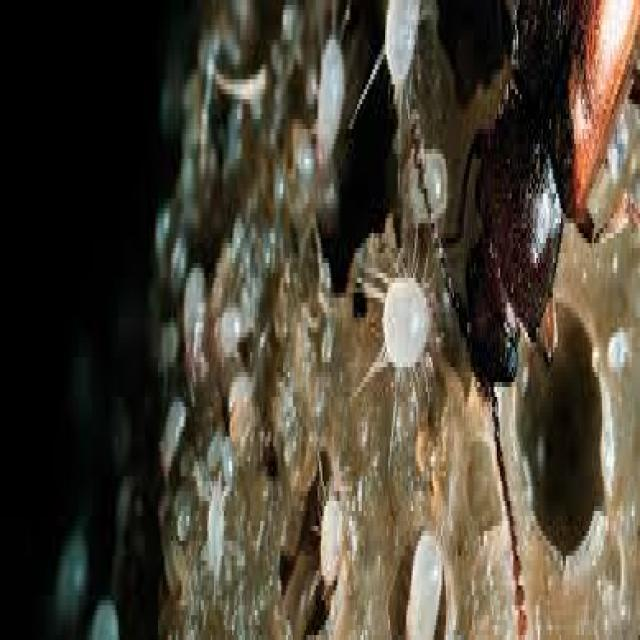Mites: (356, 240, 438, 457), (344, 0, 432, 194), (392, 124, 450, 241), (393, 527, 451, 640), (307, 447, 354, 582)
